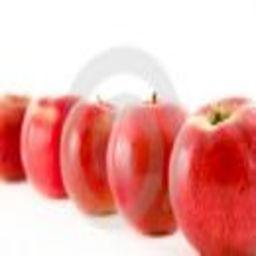apple: (168, 98, 256, 256), (107, 95, 195, 241), (59, 100, 115, 217), (21, 93, 79, 198), (1, 92, 29, 183)
